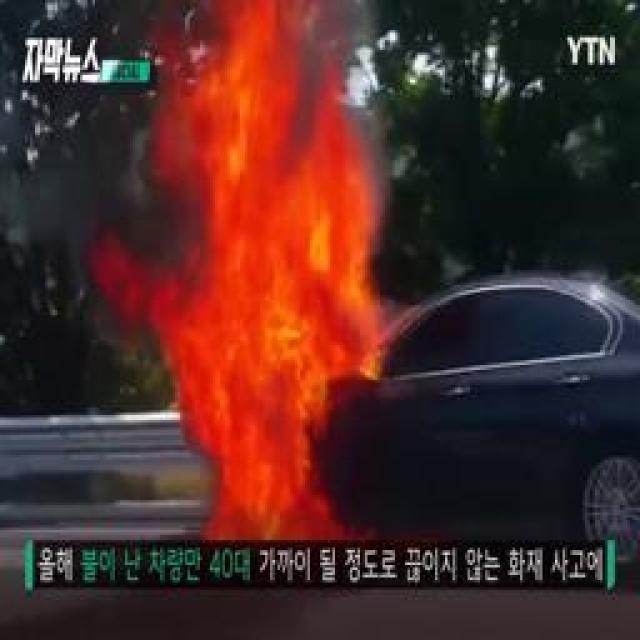Fire: (193, 8, 370, 543)
